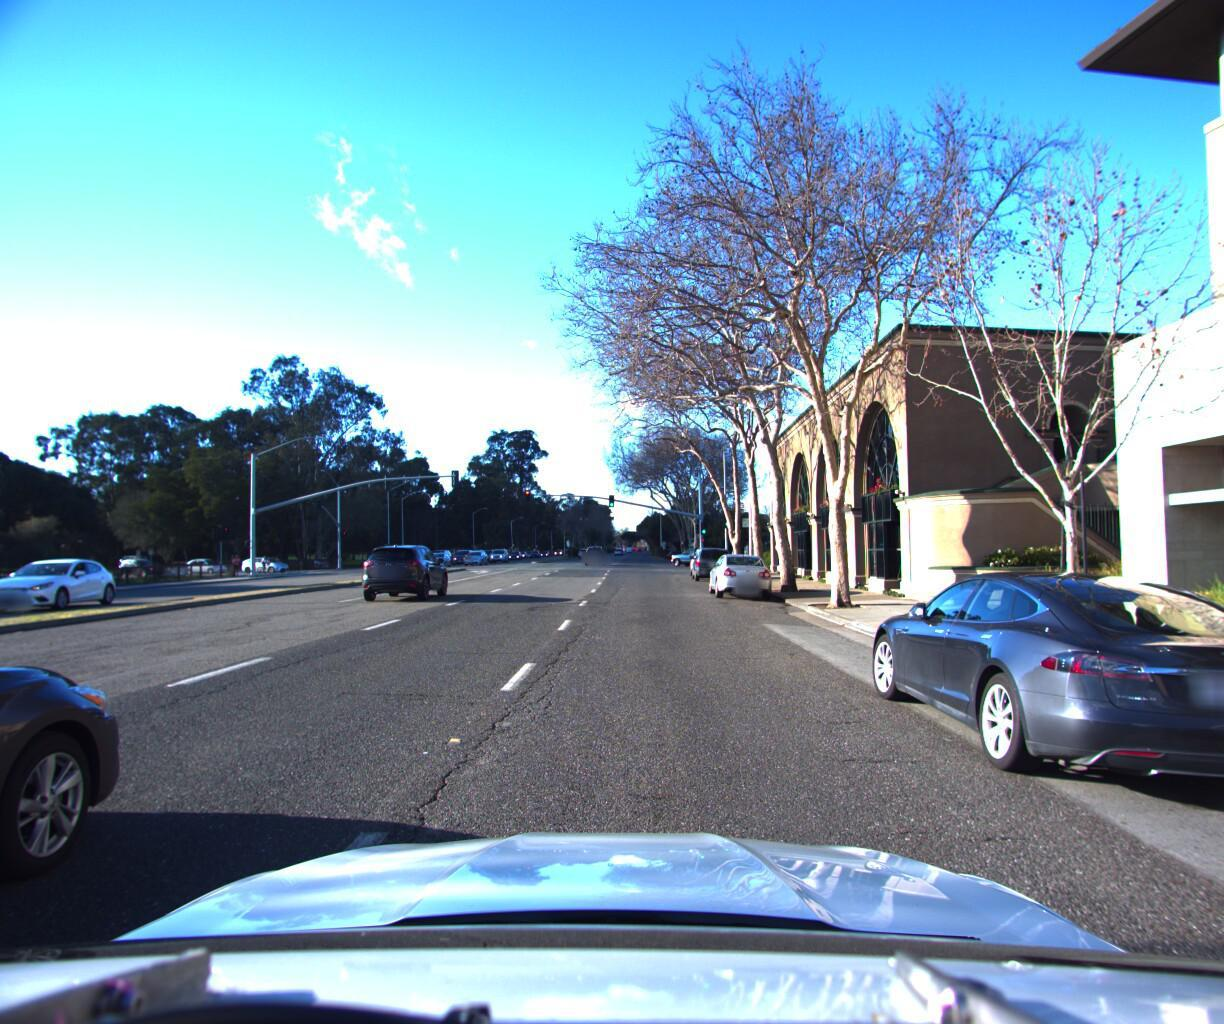bicycle: (254, 549, 282, 570)
car: (852, 553, 1224, 833), (0, 550, 191, 1024), (0, 553, 121, 612), (357, 537, 456, 601), (706, 547, 779, 598), (691, 540, 734, 578), (660, 542, 720, 563), (240, 552, 296, 569), (181, 554, 234, 571), (579, 540, 607, 560), (461, 544, 489, 561)
